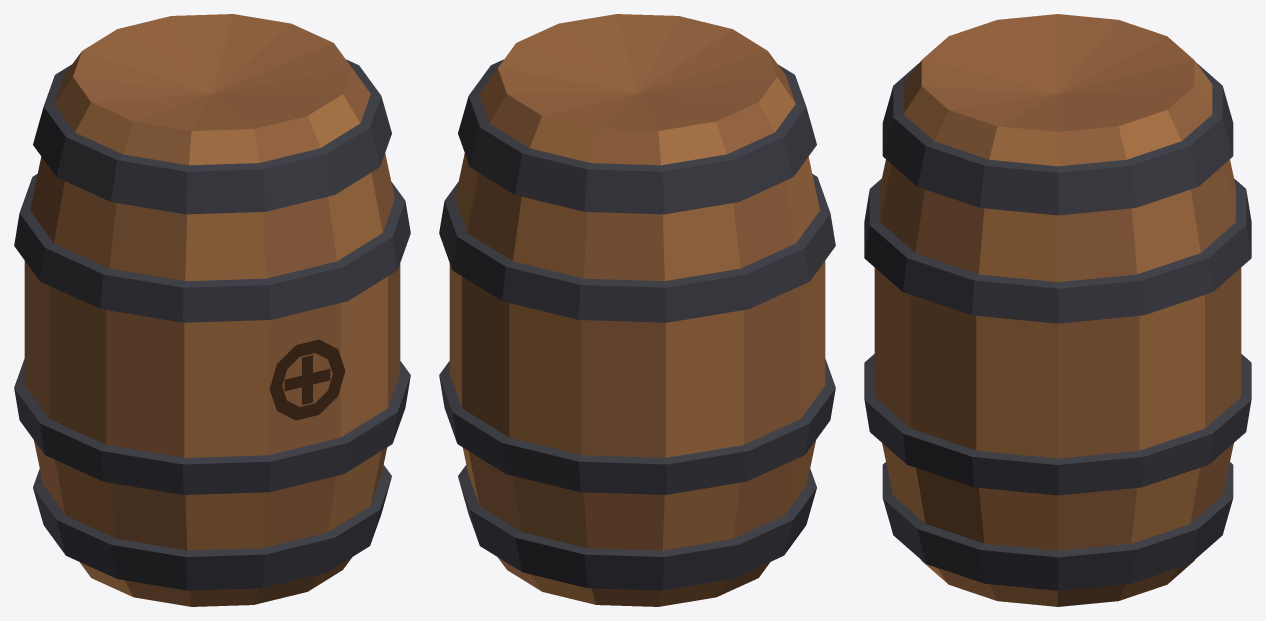
File: barrel.glb
The picture shows the model from 3 angles, left to right: view 1: azimuth 30°, elevation 25°; view 2: azimuth 150°, elevation 25°; view 3: azimuth 270°, elevation 25°; orthographic projection.
Parts seen in each view (by area): view 1: barrel; view 2: barrel; view 3: barrel.
Part boxes in pixels (left/top/right/bottom): barrel: left=14, top=14, right=410, bottom=606; barrel: left=439, top=14, right=835, bottom=606; barrel: left=864, top=14, right=1251, bottom=606.
Size of the model in its own units: 0.6818 by 0.9 by 0.6647.
Materials: 1 (1 with a texture image).
